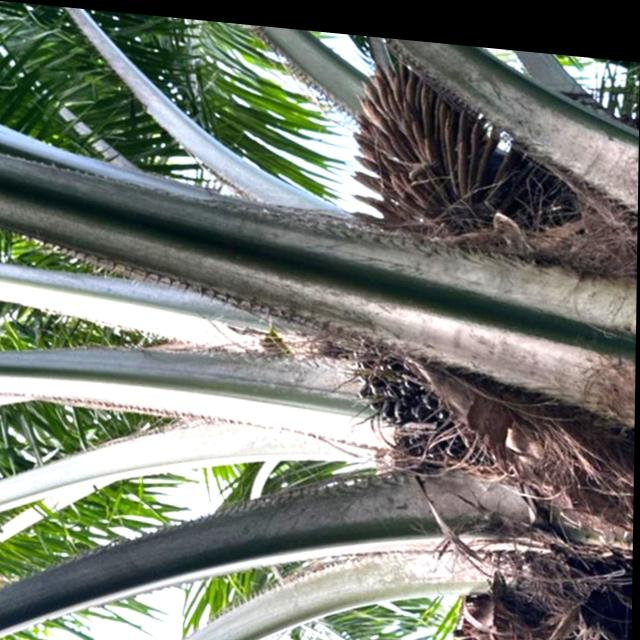almost: (342, 329, 539, 483)
